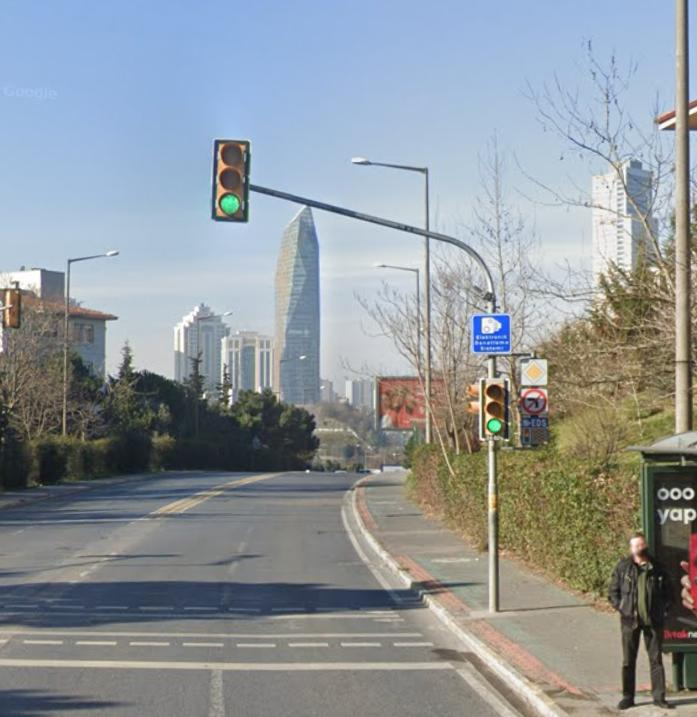greenlight: (216, 142, 245, 217), (482, 381, 507, 434)
